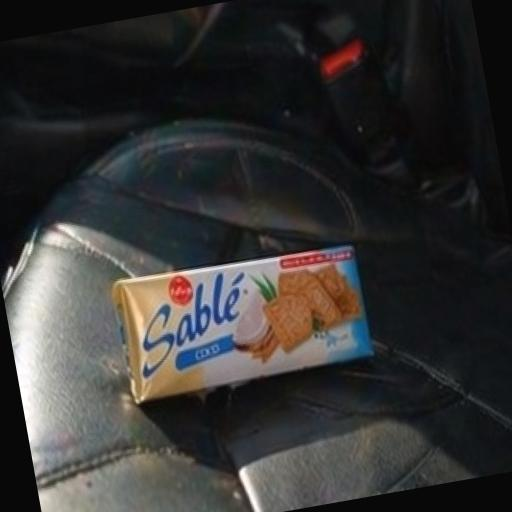sable: (42, 153, 449, 470)
